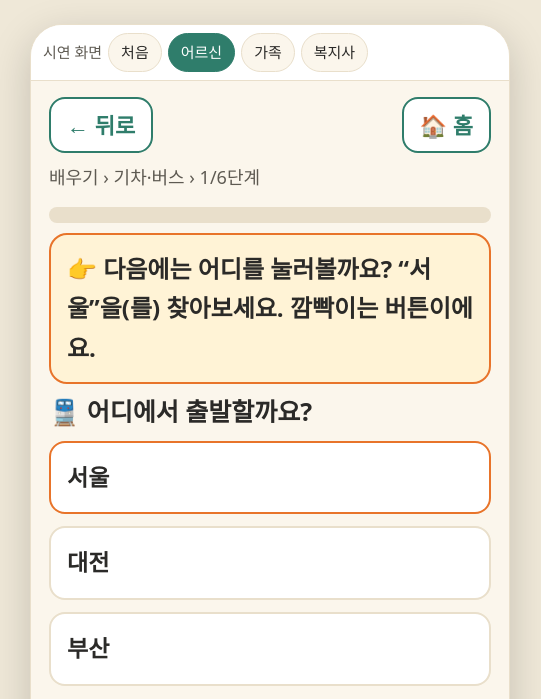
디지털 동행 주요 흐름 › TEST 3: 기차·버스 예매 연습
Click the button "서울".
click(88, 477)  # box x1=49 y1=440 x2=491 y2=514
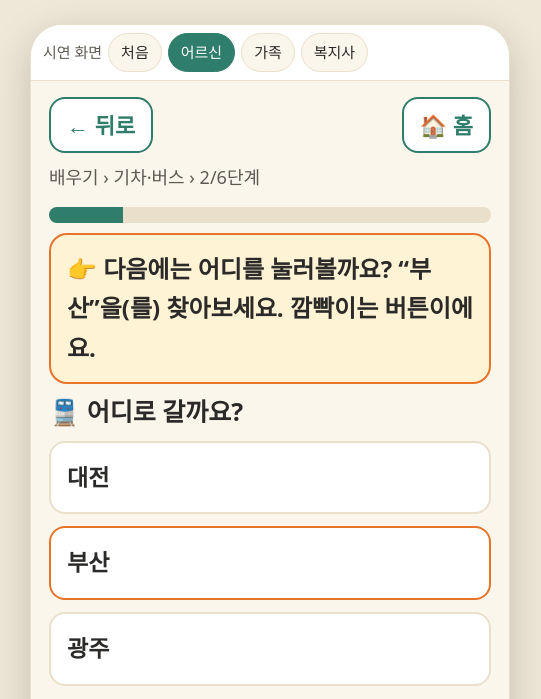
Click the button "부산".
click(88, 562)  # box x1=49 y1=526 x2=491 y2=600
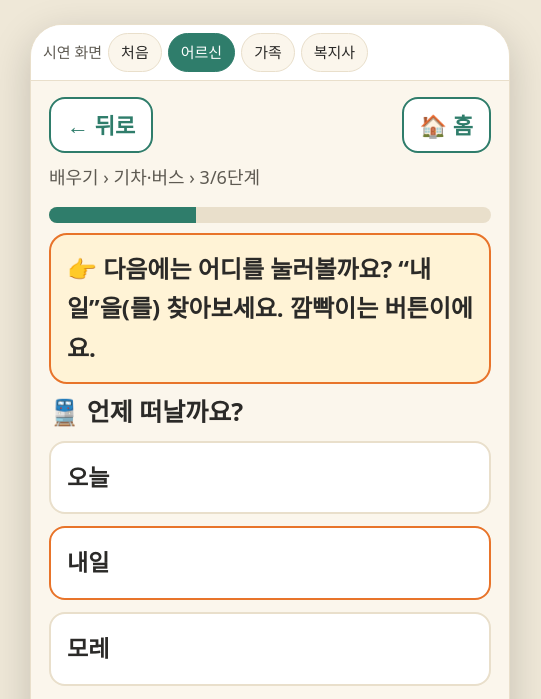
Click the button "내일".
click(88, 562)  # box x1=49 y1=526 x2=491 y2=600
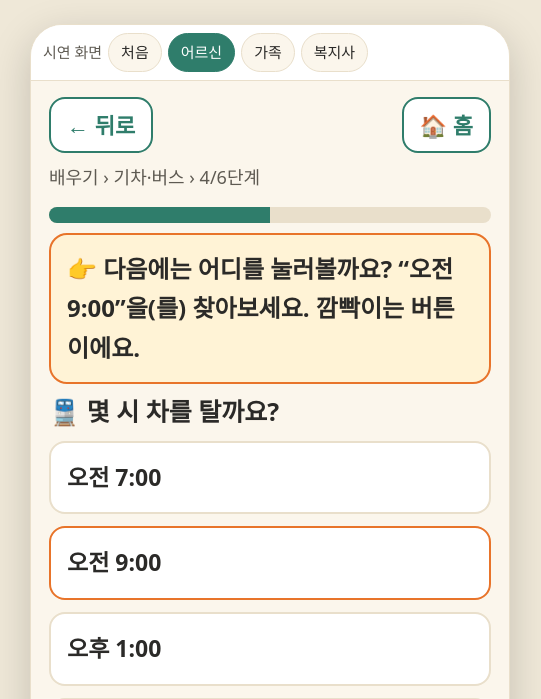
Click the button "오전 9:00".
click(114, 562)  # box x1=49 y1=526 x2=491 y2=600
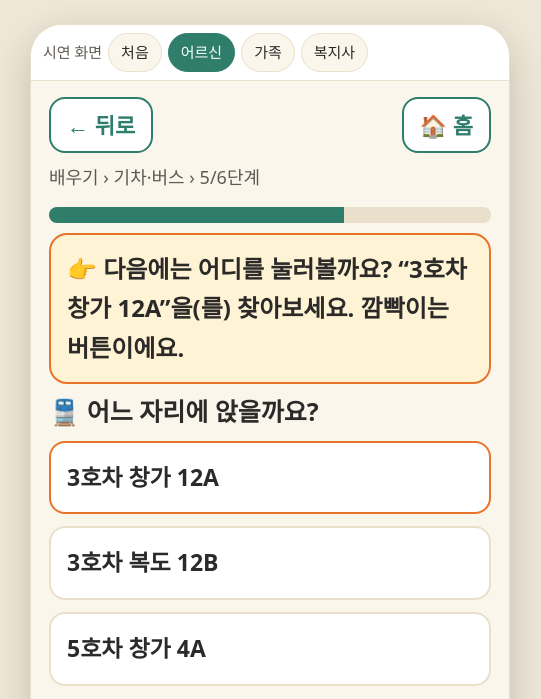
Click the button "3호차 창가 12A".
click(143, 477)  # box x1=49 y1=440 x2=491 y2=514
(page scrolled)
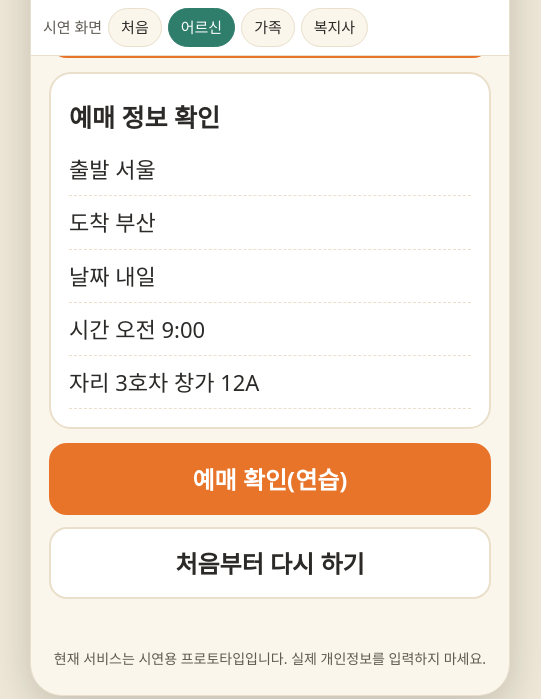
Click the button "예매 확인(연습)".
click(270, 479)  # box x1=49 y1=443 x2=491 y2=515
(page scrolled)
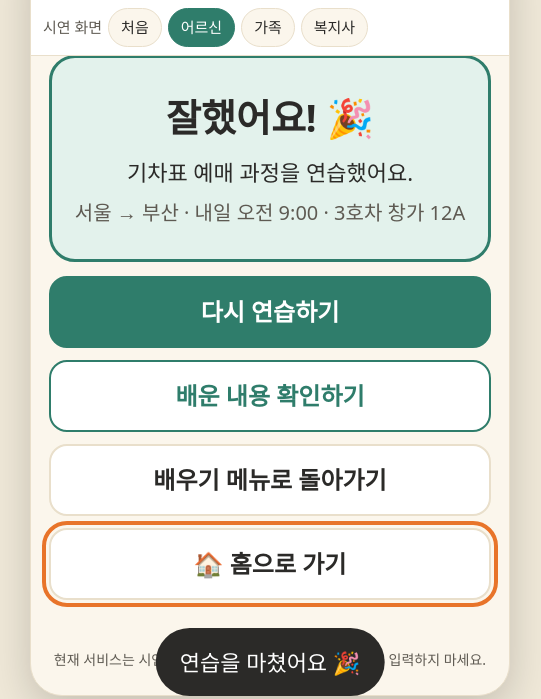
Now the text "기차표 예매 과정을 연습했어요." is shown, box x1=127 y1=157 x2=413 y2=187
